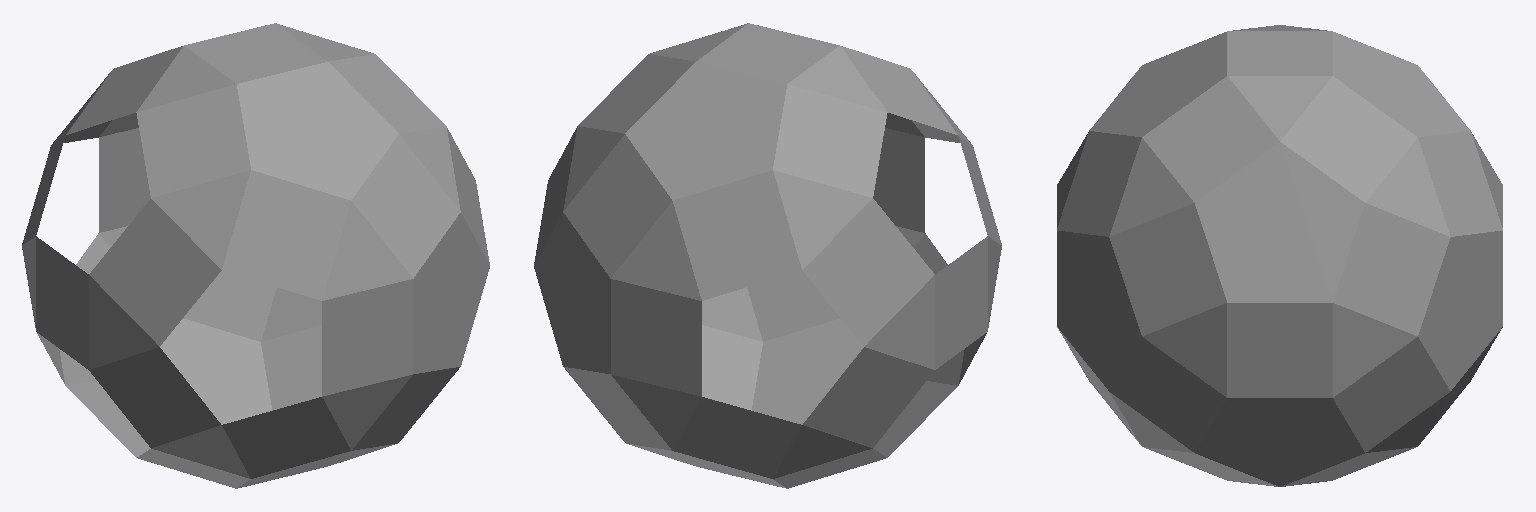
The model's file is TestPolyhedron.obj.
The picture shows the model from 3 angles: view 1: azimuth 30°, elevation 25°; view 2: azimuth 150°, elevation 25°; view 3: azimuth 270°, elevation 25°; orthographic projection.
Parts seen in each view (by area): view 1: <STL_BINARY>; view 2: <STL_BINARY>; view 3: <STL_BINARY>.
Part boxes in pixels (x1,y1,x2,y2): <STL_BINARY>: (22, 23, 489, 488); <STL_BINARY>: (534, 23, 1001, 488); <STL_BINARY>: (1057, 25, 1502, 486).
Size of the model in its own units: 4.24 by 4.24 by 4.24.